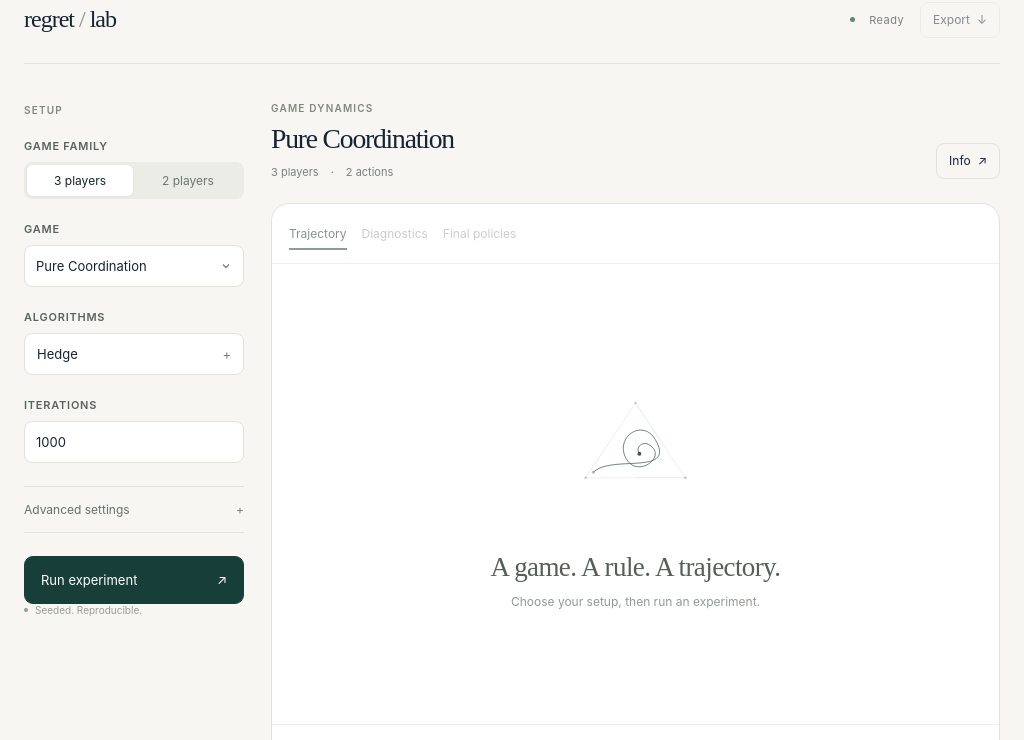
Test: research workspace › never displays an earlier trajectory under a failed new figure selection
Click the button "Run experiment ↗" at (134, 580), box left=24, top=556, right=244, bottom=604
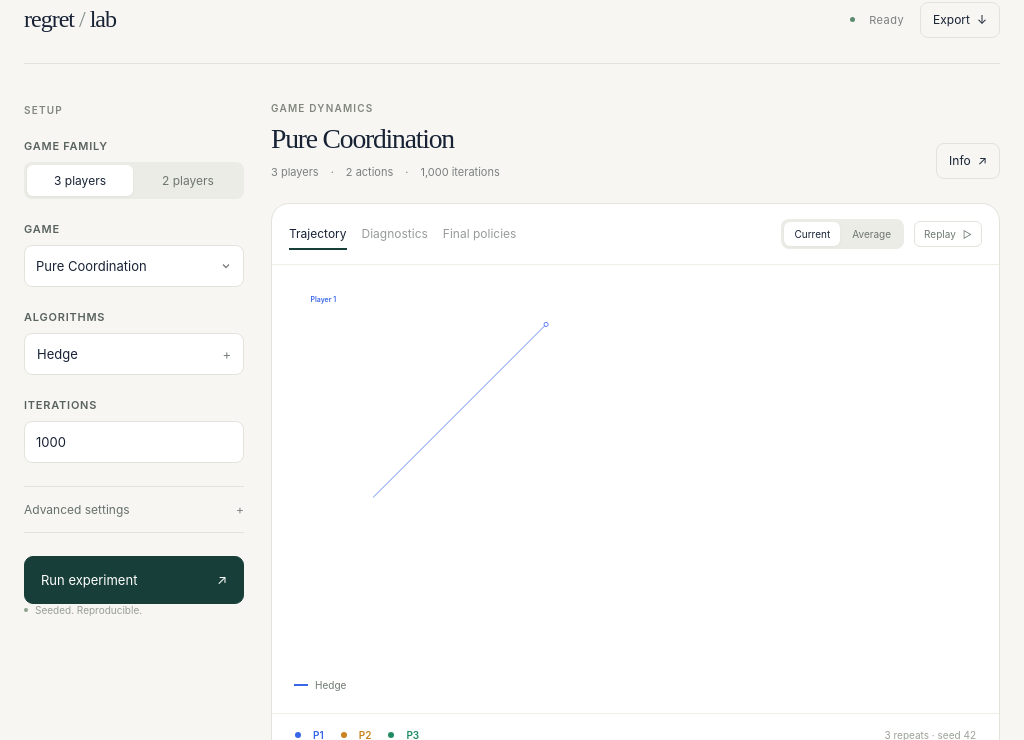
Result: the element named "Strategy trajectories" is shown at left=294, top=282, right=626, bottom=694
Click the tab "Diagnostics" at (395, 234), box left=362, top=219, right=428, bottom=248
(page scrolled)
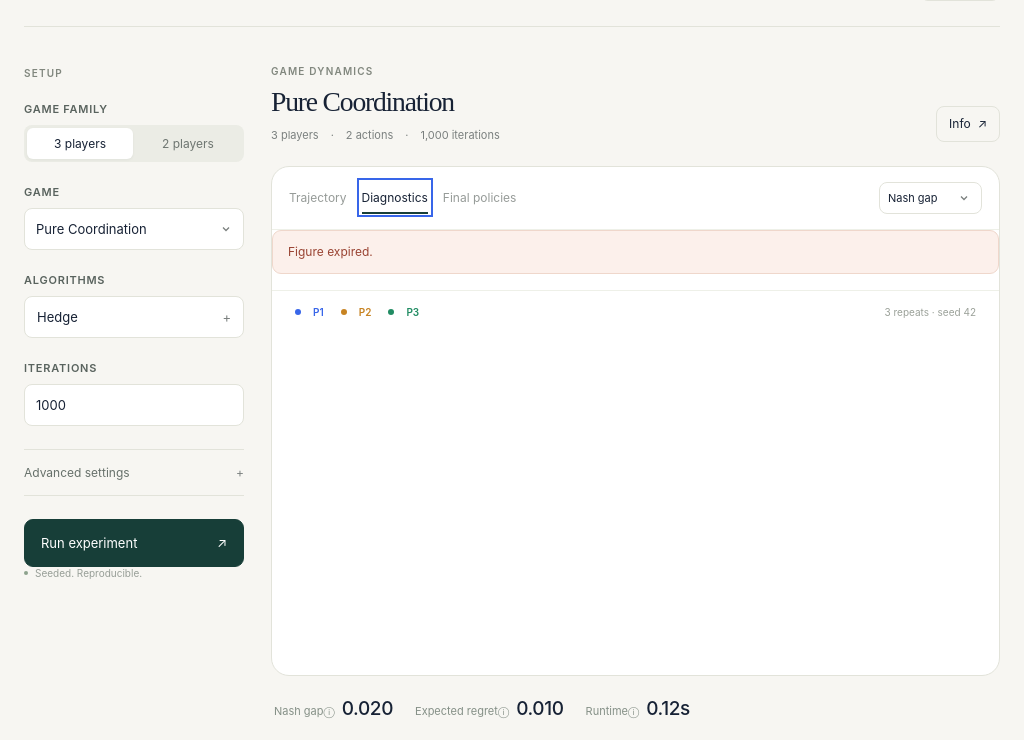
Result: the text "0.020" is shown at left=342, top=696, right=393, bottom=720
Result: the message reads "Figure expired." at left=288, top=244, right=373, bottom=258
